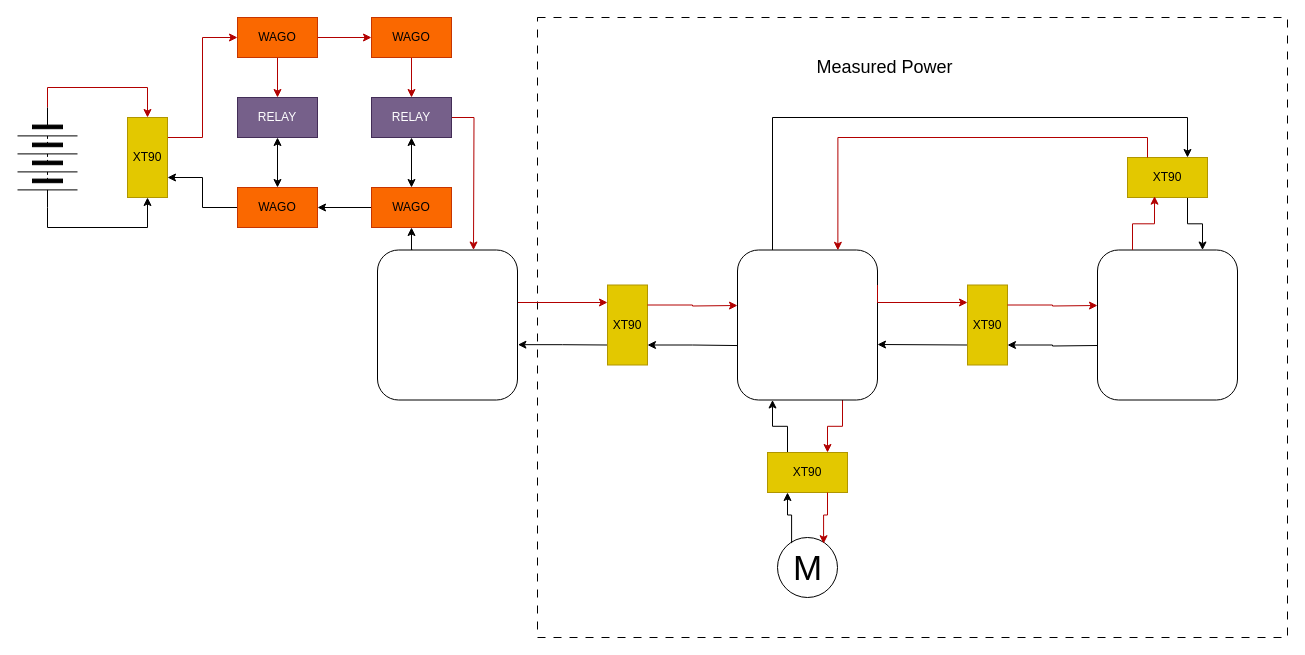
The diagram is 1305 pixels wide and 655 high, and some of its shapes have lost their labels. Each missing label, with the centre of its shape:
"DAQ" belongs at point (807, 324).
"Joulemeter" belongs at point (447, 324).
"Power Electronics" belongs at point (1167, 324).
